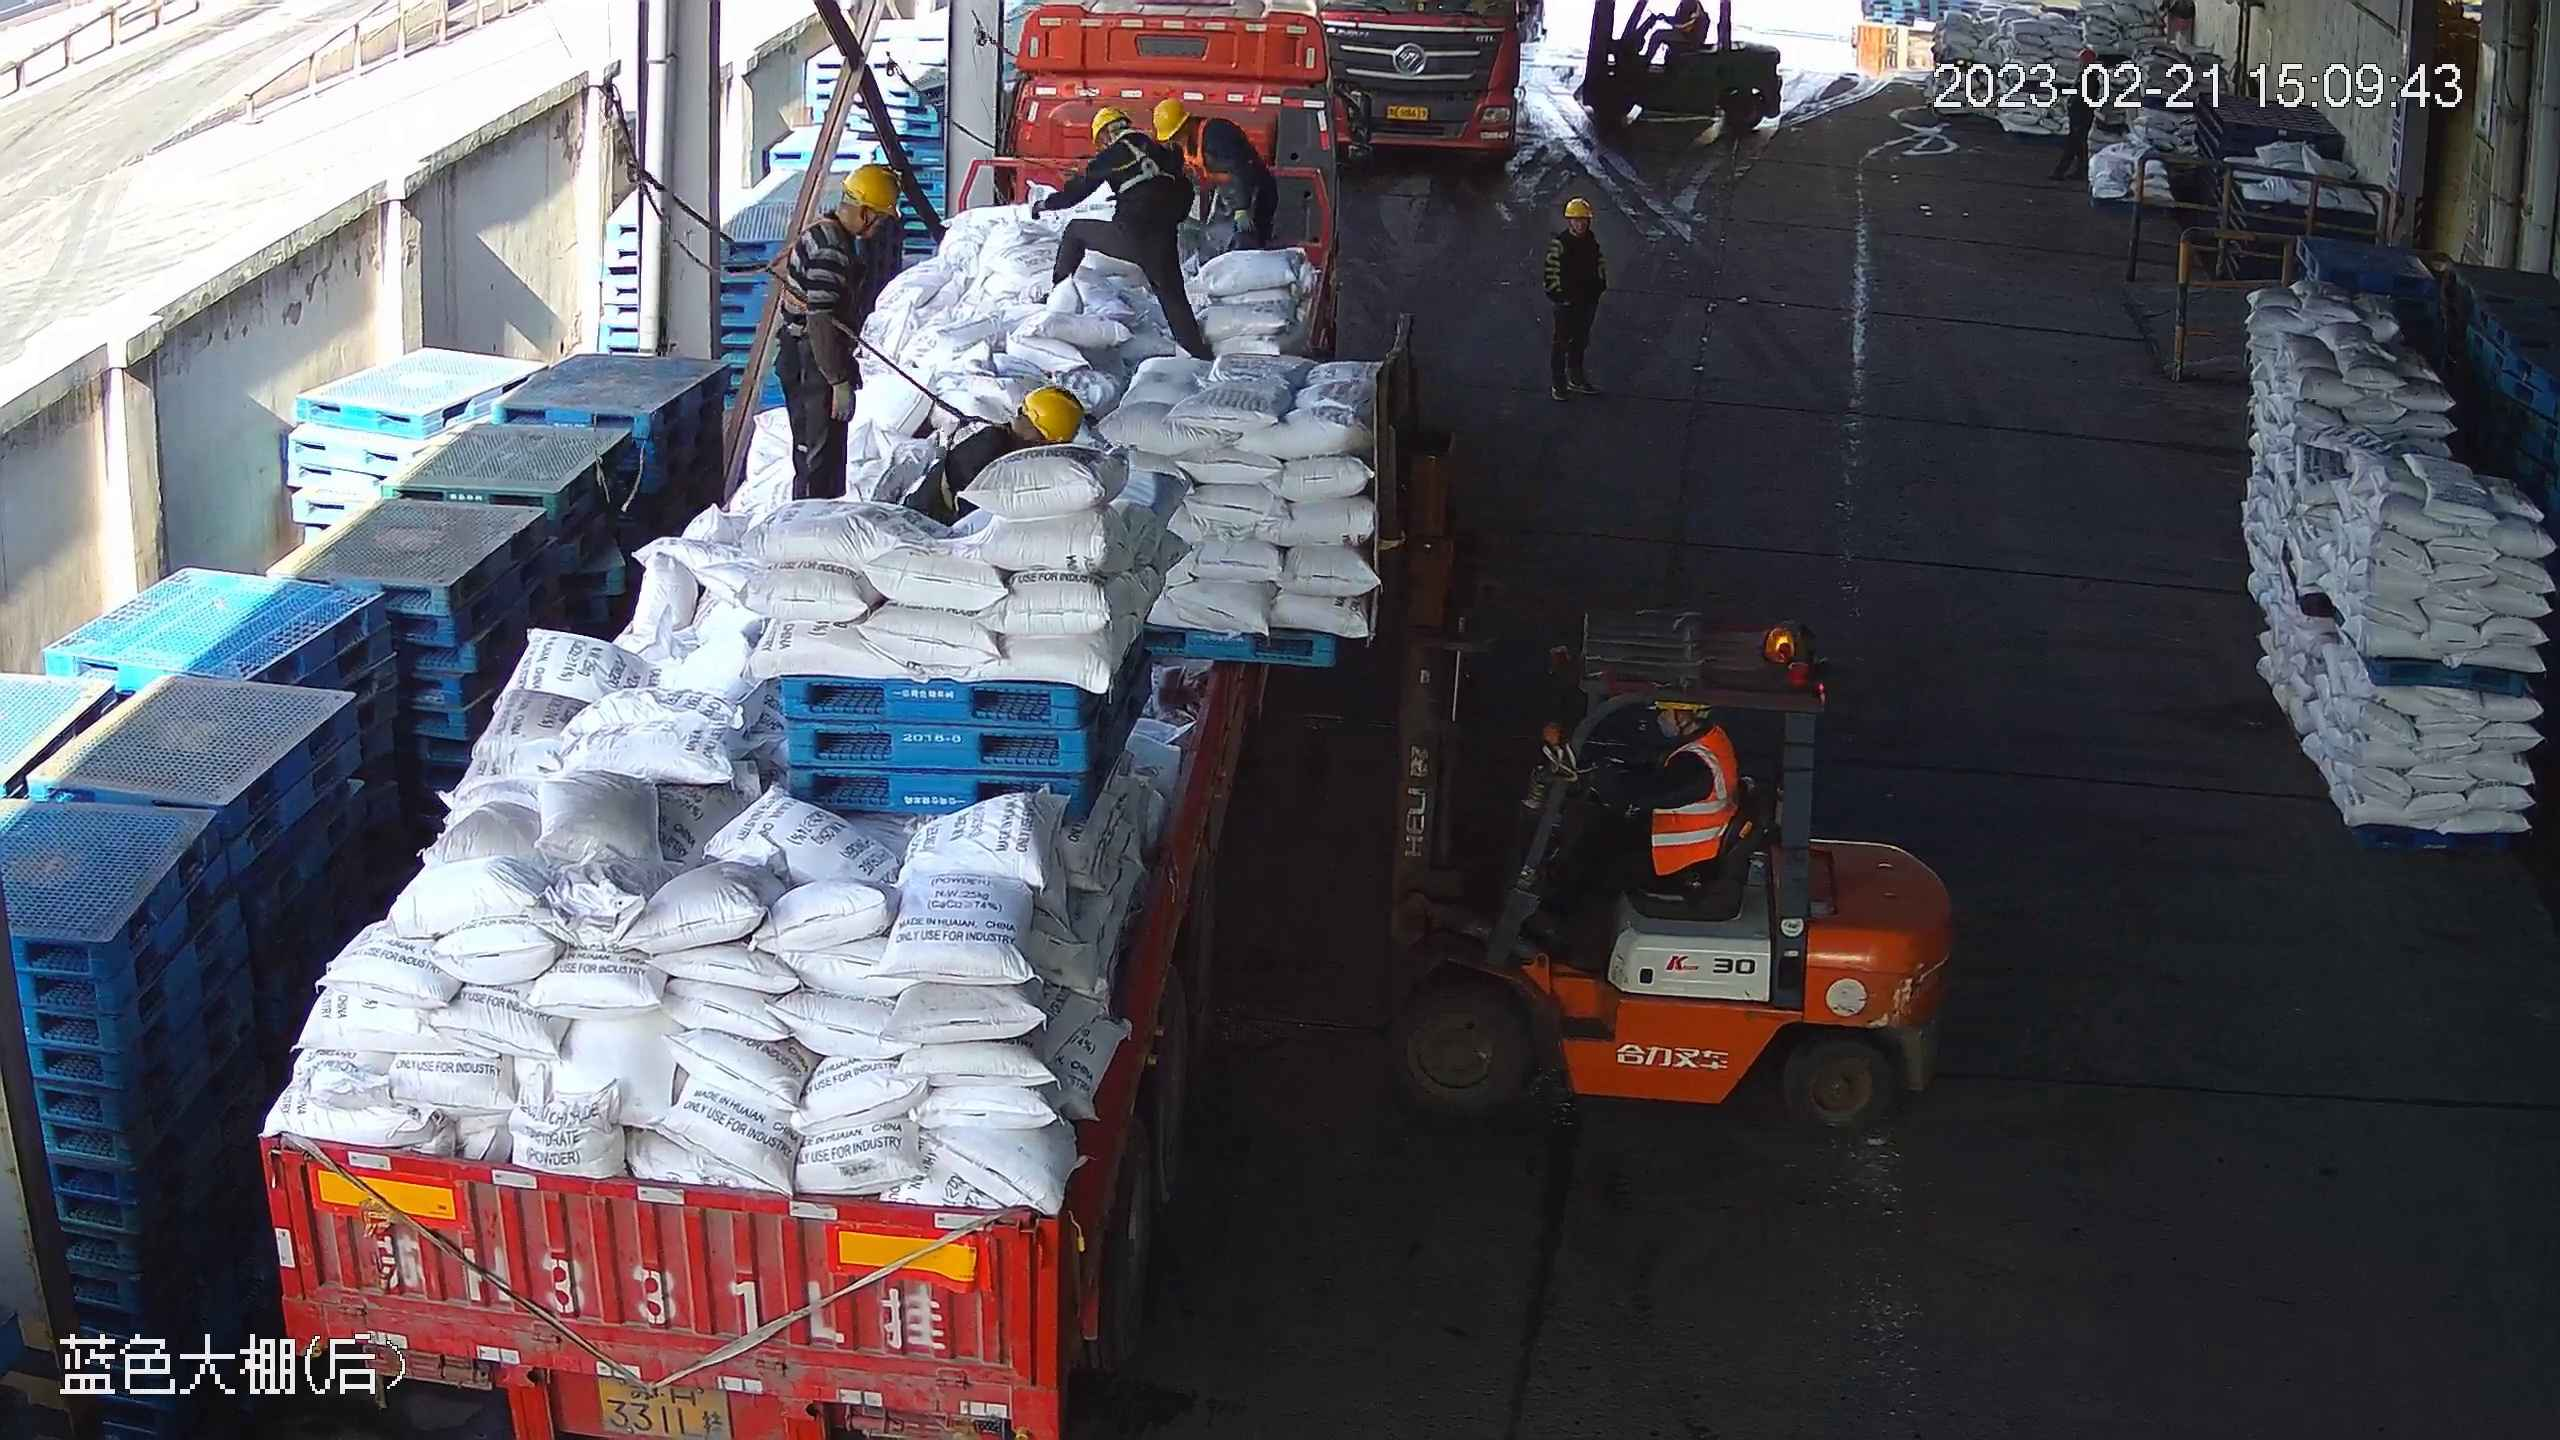belt: (933, 406, 1009, 500), (764, 216, 823, 318), (1180, 116, 1232, 193), (1112, 133, 1164, 198)
head: (915, 390, 1072, 480), (1619, 695, 1741, 811), (779, 163, 895, 275), (1053, 102, 1171, 199), (1155, 102, 1236, 175), (1541, 204, 1602, 266)
helmet: (1019, 389, 1083, 444), (845, 163, 902, 218), (1153, 104, 1193, 145), (1086, 104, 1128, 142), (2080, 49, 2103, 66)
people: (1548, 692, 1747, 940), (1028, 109, 1212, 364), (771, 161, 903, 499), (1148, 95, 1278, 249), (1538, 199, 1607, 402), (2044, 52, 2106, 189), (1638, 1, 1709, 78), (2073, 51, 2101, 109)
truck: (253, 1, 1369, 1437), (1321, 1, 1545, 161)
